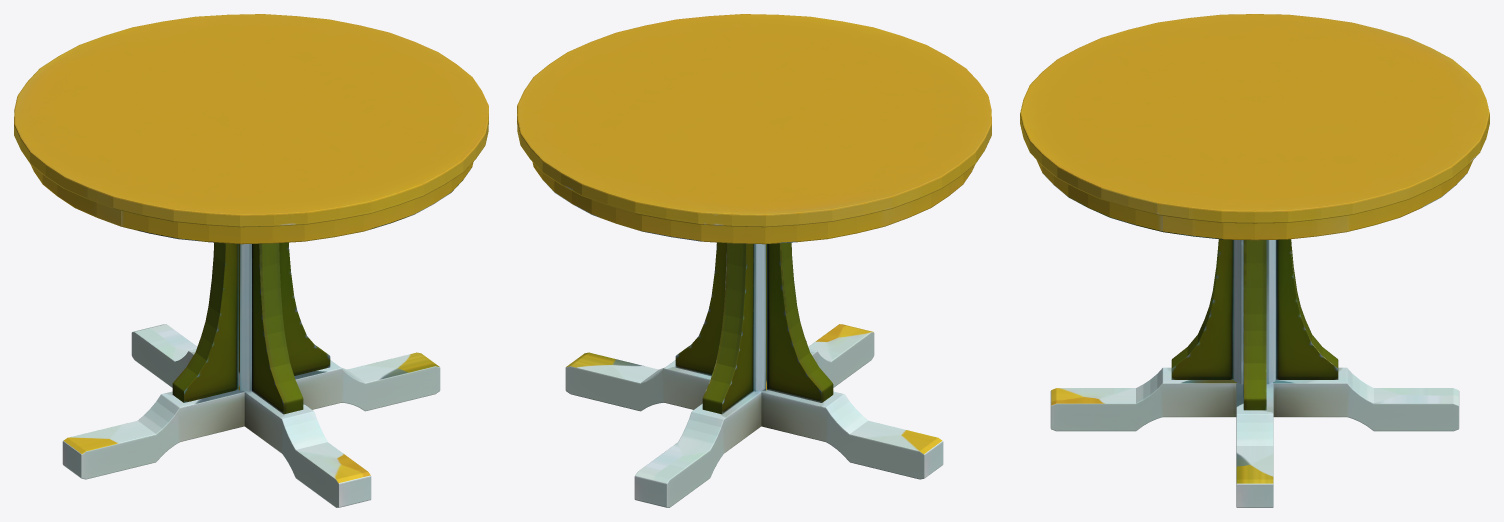
Rendered from edited_mesh.glb.
The picture shows the model from 3 angles, left to right: view 1: azimuth 30°, elevation 25°; view 2: azimuth 150°, elevation 25°; view 3: azimuth 270°, elevation 25°; orthographic projection.
Parts seen in each view (by area): view 1: normalized_model.obj; view 2: normalized_model.obj; view 3: normalized_model.obj.
Part boxes in pixels (box(x1,y1,x2,y2)): normalized_model.obj: box(14, 14, 488, 507); normalized_model.obj: box(517, 14, 991, 507); normalized_model.obj: box(1020, 14, 1489, 507).
Bounding box in the file's own units: 1.62 × 1.19 × 1.62.
Materials: 1 (1 with a texture image).
